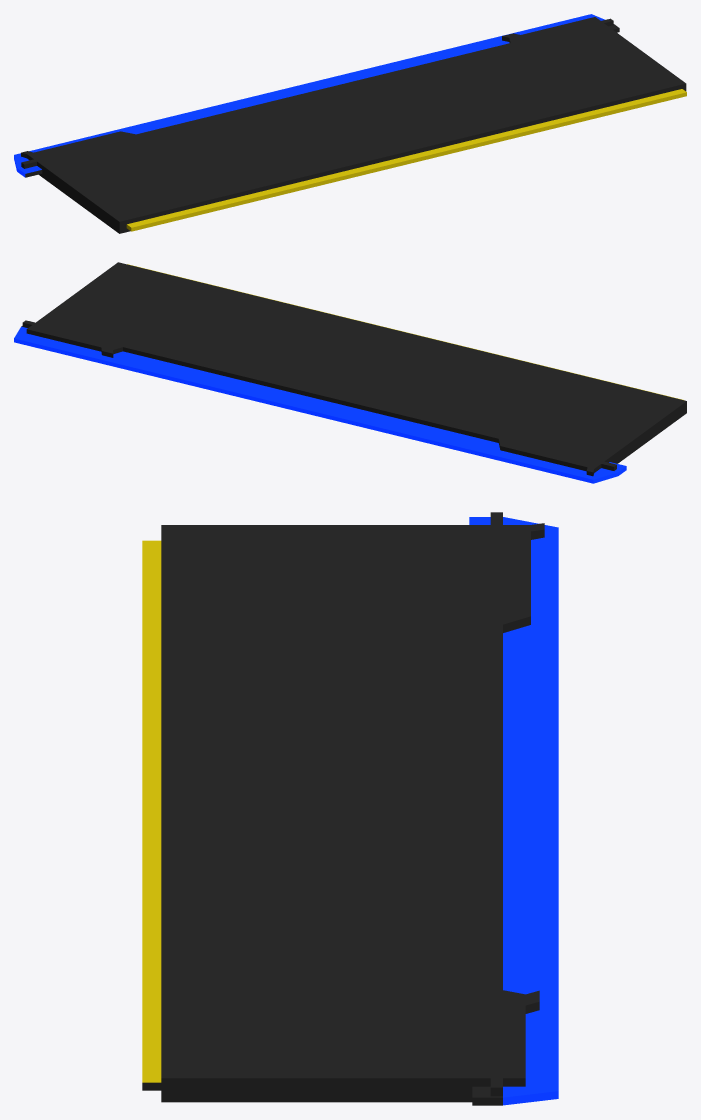
Rendered from RAM3.fbx.
3 renders of one model, top to bottom at view 1: azimuth 30°, elevation 25°; view 2: azimuth 150°, elevation 25°; view 3: azimuth 270°, elevation 25°, orthographic. The views are drawn at different scales.
Visible parts, largest first — view 1: Cube; view 2: Cube; view 3: Cube.
Part boxes in pixels (<box>): Cube: <box>14,14,686,233</box>; Cube: <box>14,262,686,483</box>; Cube: <box>142,512,558,1105</box>.
Size of the model in its own units: 804 by 15.63 by 244.
